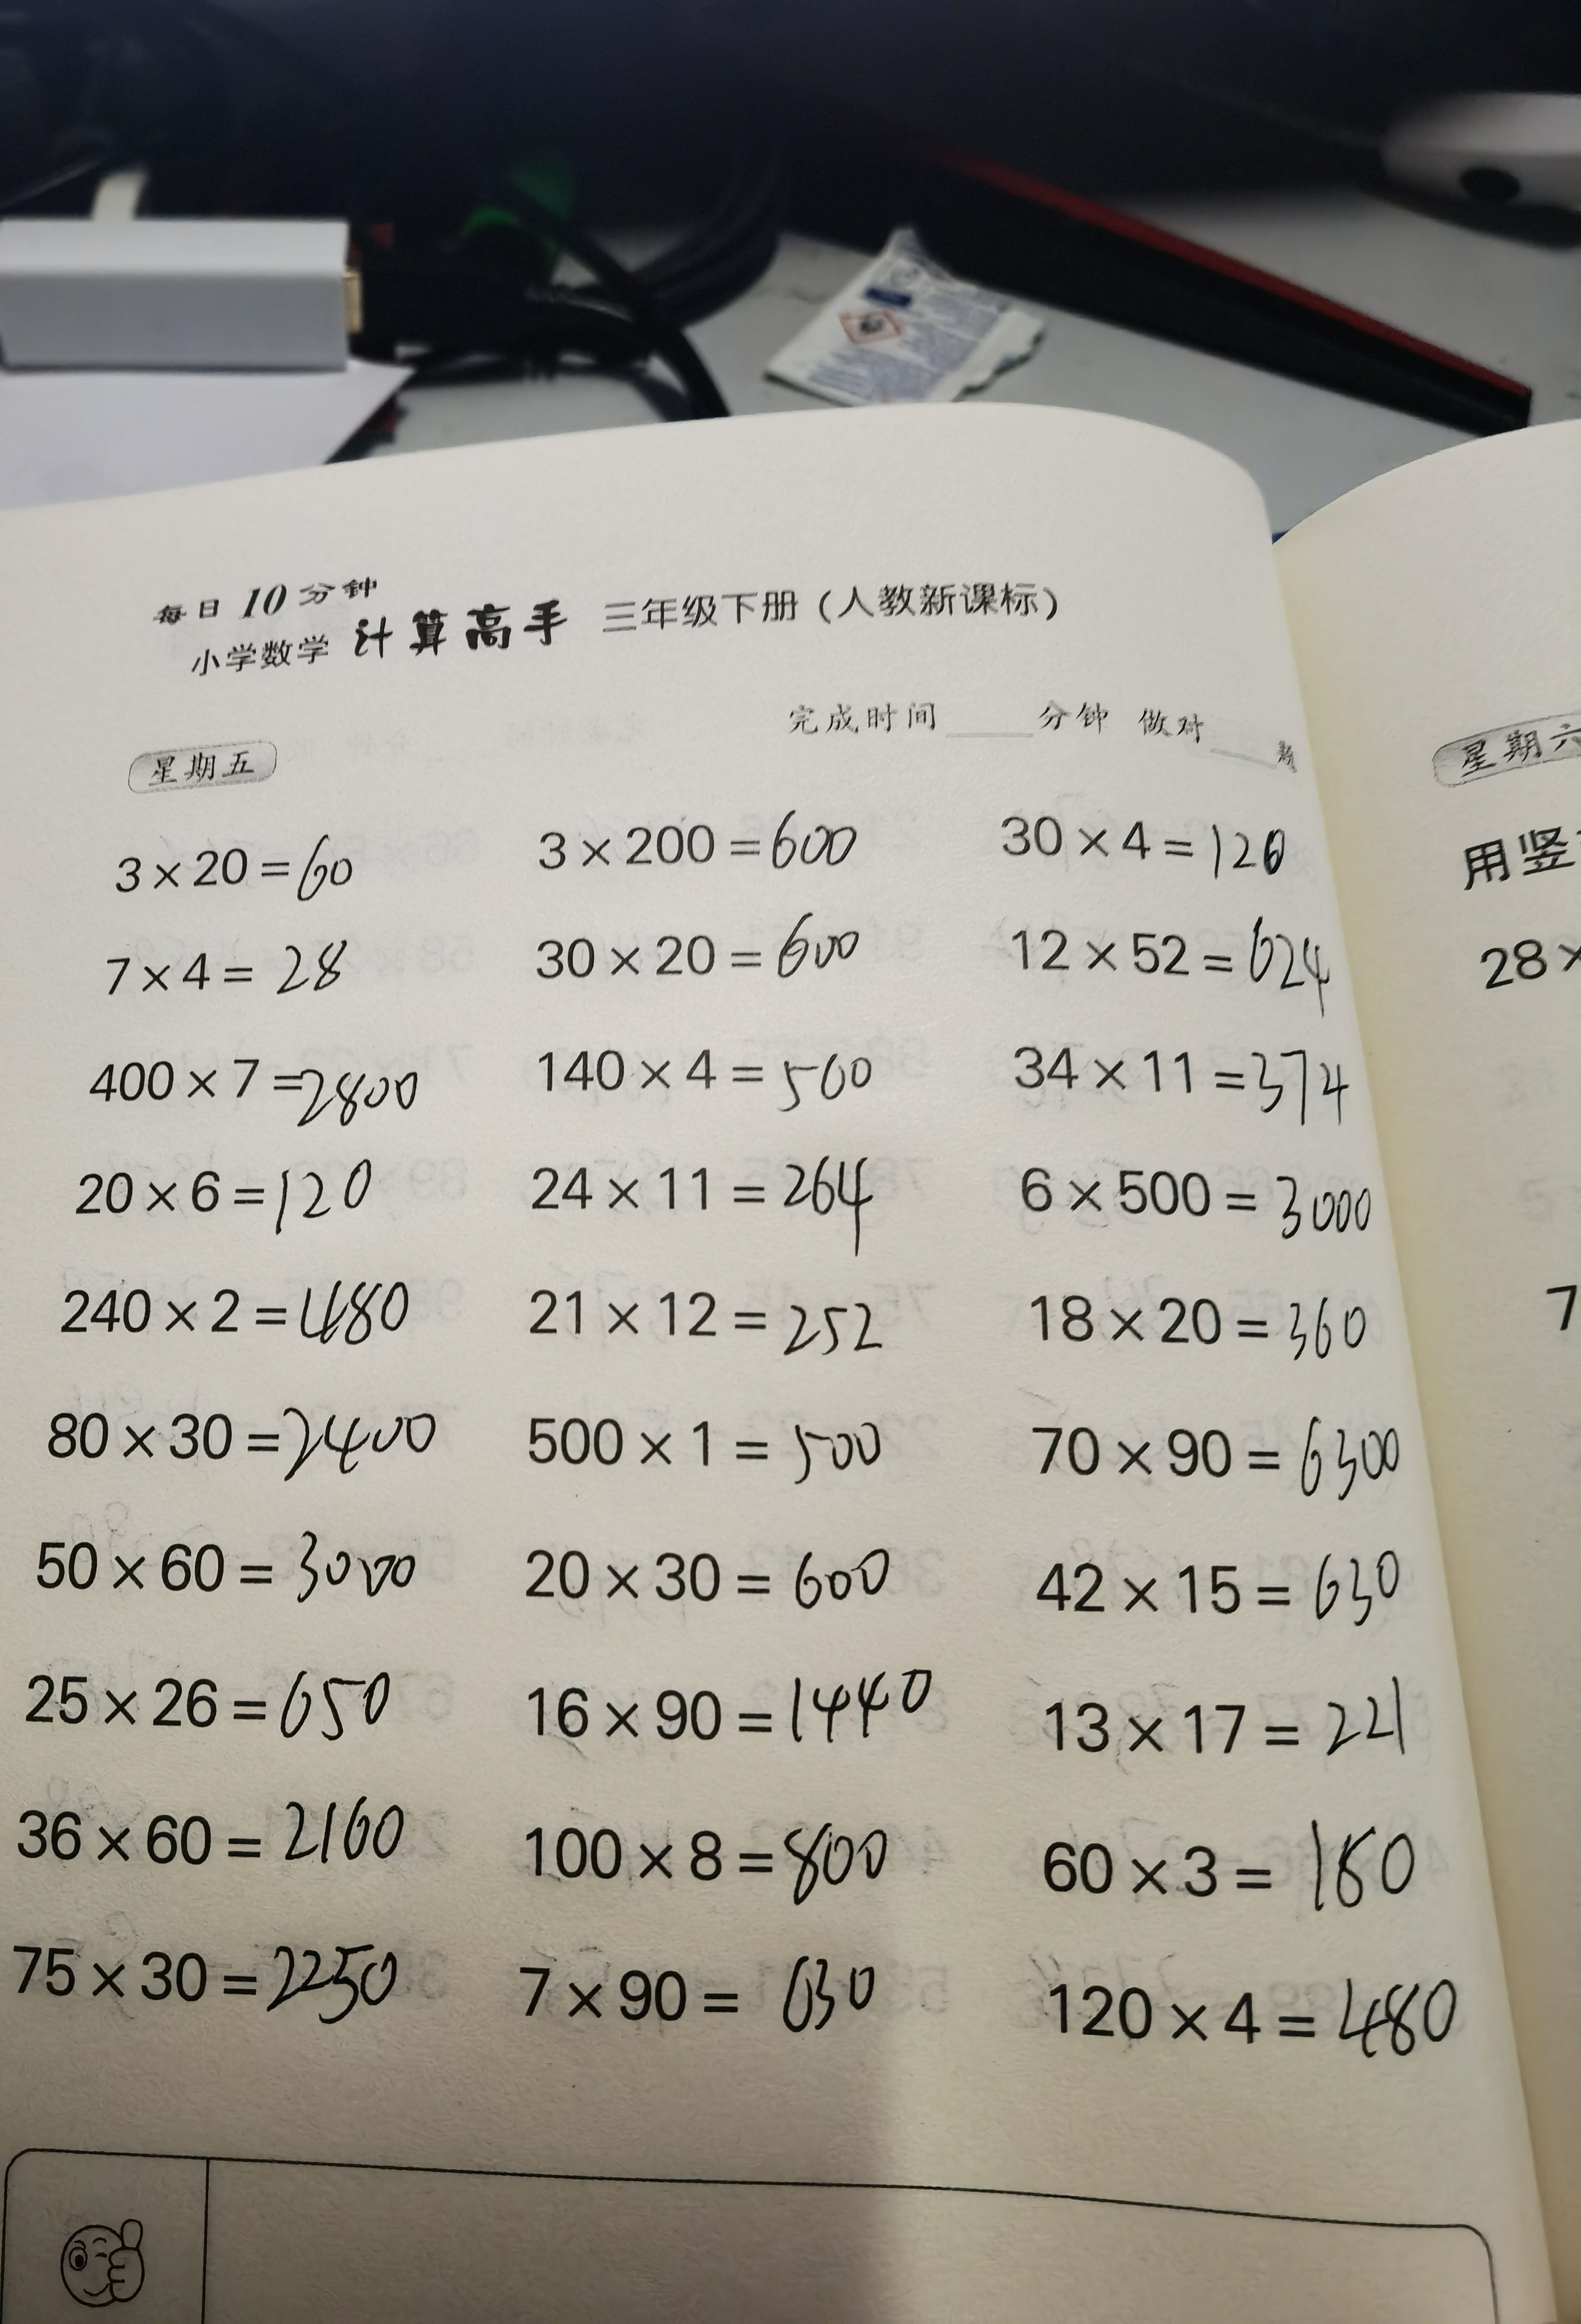equation: (1034, 1964, 1468, 2091), (494, 1664, 921, 1784), (993, 1242, 1412, 1364), (515, 1927, 907, 2054), (1023, 1800, 1450, 1916), (515, 1121, 912, 1242), (1016, 1383, 1417, 1502), (4, 1518, 445, 1623), (517, 1521, 921, 1632), (1002, 903, 1394, 1016), (503, 999, 912, 1106), (506, 1795, 898, 1906), (992, 1143, 1406, 1248), (18, 1391, 457, 1488), (18, 1652, 436, 1752), (1023, 1537, 1440, 1638), (1038, 1661, 1420, 1768), (498, 1392, 916, 1488), (18, 1784, 434, 1878), (16, 1925, 402, 2026), (81, 1029, 436, 1135), (487, 799, 873, 896), (1008, 1022, 1367, 1124), (992, 789, 1330, 896), (499, 1274, 884, 1366), (515, 902, 882, 993), (88, 799, 378, 914), (67, 923, 381, 1023), (26, 1272, 423, 1352), (42, 1163, 409, 1244)
